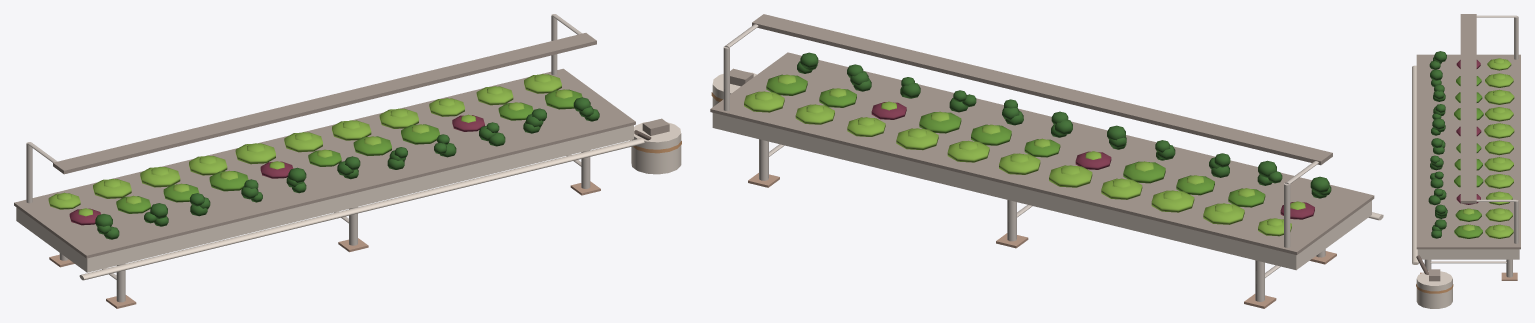
The model's file is D20_hydroponic_bed_4m.glb.
3 views of the same model, side by side, from view 1: azimuth 30°, elevation 25°; view 2: azimuth 150°, elevation 25°; view 3: azimuth 270°, elevation 25° (orthographic). The views are drawn at different scales.
Visible parts, largest first — view 1: trough_rim, lettuce, trough, leg, foot; view 2: trough_rim, lettuce, trough, leg, foot; view 3: trough_rim, lettuce, trough, leg, foot.
Part boxes in pixels (x1,y1,x2,y2): trough_rim: (14, 33, 669, 258); lettuce: (48, 74, 599, 239); trough: (16, 122, 681, 280); leg: (26, 14, 590, 302); foot: (49, 181, 600, 308); trough_rim: (710, 14, 1374, 254); lettuce: (744, 52, 1331, 236); trough: (711, 72, 1383, 270); leg: (723, 24, 1325, 301); foot: (748, 173, 1336, 308); trough_rim: (1416, 14, 1520, 281); lettuce: (1428, 51, 1514, 238); trough: (1412, 65, 1519, 308); leg: (1424, 15, 1518, 277); foot: (1420, 272, 1517, 280).
Size of the model in its own units: 4.46 by 0.8624 by 0.9597.
